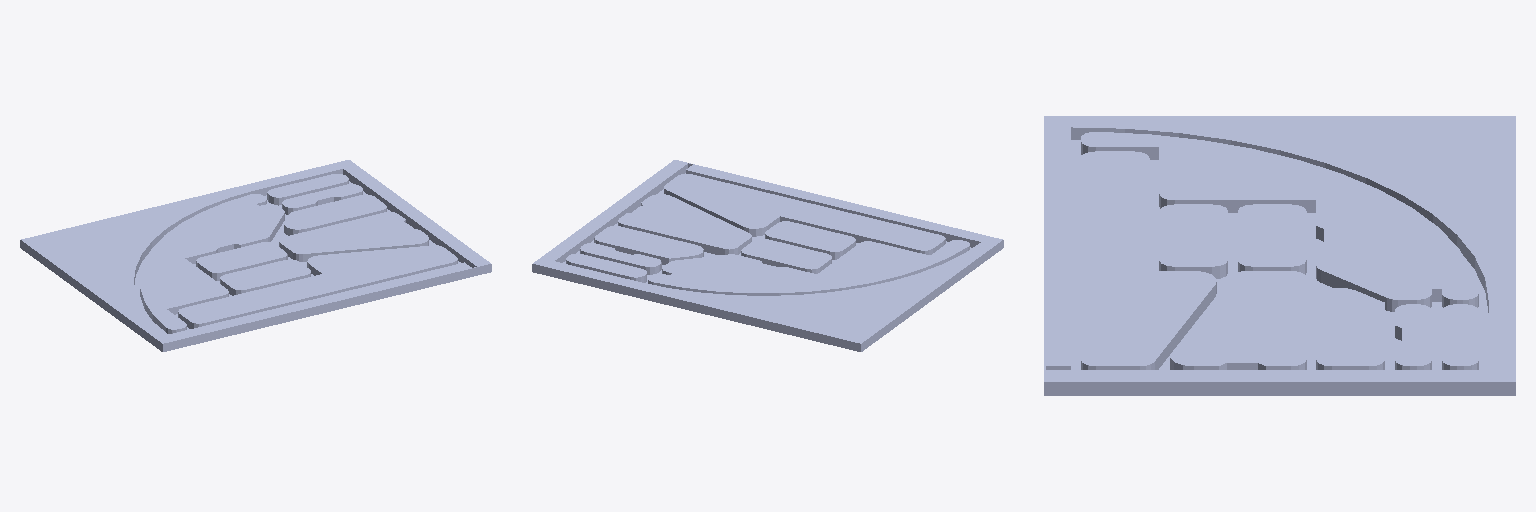
The robot description file, URDF, robot "map_sim.SLDPRT":
<?xml version="1.0" encoding="utf-8"?>
<!-- This URDF was automatically created by SolidWorks to URDF Exporter! Originally created by [author] ([email redacted]) 
     Commit Version: 1.4.2-27-gc3b3358  Build Version: 1.4.6891.25992
     For more information, please see http://wiki.ros.org/sw_urdf_exporter -->
<robot
  name="map_sim.SLDPRT">
  <link
    name="map.SLDPRT">
    <inertial>
      <origin
        xyz="0 0 0"
        rpy="0 0 0" />
      <mass
        value="1057600000" />
      <inertia
        ixx="7995500000000"
        ixy="373130000000"
        ixz="2559400000.00002"
        iyy="14146000000000"
        iyz="741720000.000488"
        izz="22123000000000" />
    </inertial>
    <visual>
      <origin
        xyz="0 0 0"
        rpy="1.5707963267949 0 0" />
      <geometry>
        <mesh
          filename="package://map.SLDPRT/meshes/map.SLDPRT.STL" />
      </geometry>
      <material
        name="">
        <color
          rgba="0.79216 0.81961 0.93333 1" />
        <texture
          filename="package://map.SLDPRT/textures/" />
      </material>
    </visual>
    <collision>
      <origin
        xyz="0 0 0"
        rpy="1.5707963267949 0 0" />
      <geometry>
        <mesh
          filename="package://map.SLDPRT/meshes/map.SLDPRT.STL" />
      </geometry>
    </collision>
  </link>
</robot>

--- Render facts (derived) ---
Views: 3 orthographic renders of the robot side by side, from view 1: azimuth 30°, elevation 25°; view 2: azimuth 150°, elevation 25°; view 3: azimuth 270°, elevation 25°.
Model map_sim.SLDPRT with 1 links and 0 joints (none), rooted at map.SLDPRT, posed every joint at zero.
Links seen in each view (by area): view 1: map.SLDPRT; view 2: map.SLDPRT; view 3: map.SLDPRT.
Boxes of the visible links, x1=… form: map.SLDPRT: x1=20, y1=160, x2=491, y2=351; map.SLDPRT: x1=532, y1=160, x2=1003, y2=351; map.SLDPRT: x1=1044, y1=116, x2=1515, y2=395.
Bounding box of the posed robot: 400 × 300 × 10 m (x, y, z).
1 mesh visuals loaded from 1 distinct referenced files (1 binary STL).
